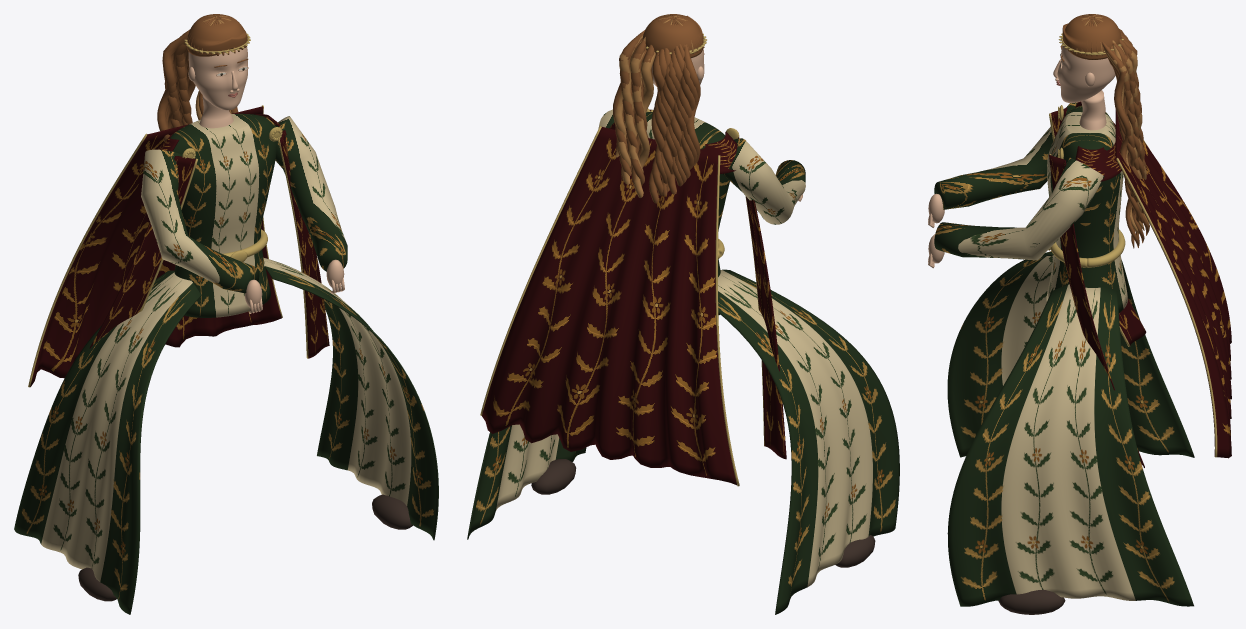
Rendered from princess-v8-mounted.glb.
The picture shows the model from 3 angles, left to right: view 1: azimuth 30°, elevation 25°; view 2: azimuth 150°, elevation 25°; view 3: azimuth 270°, elevation 25°; orthographic projection.
Visible parts, largest first — view 1: MorrisPrincess_surface, cape_surface, body_surface, head_surface, armL_surface, armR_surface; view 2: cape_surface, MorrisPrincess_surface, head_surface, armL_surface, body_surface; view 3: MorrisPrincess_surface, cape_surface, head_surface, body_surface, armR_surface, armL_surface.
Part boxes in pixels (x1,y1,x2,y2): MorrisPrincess_surface: (14, 258, 438, 614); cape_surface: (28, 105, 329, 387); body_surface: (170, 95, 282, 317); head_surface: (157, 14, 250, 141); armL_surface: (141, 149, 262, 313); armR_surface: (275, 116, 347, 293); cape_surface: (480, 109, 786, 486); MorrisPrincess_surface: (467, 269, 899, 614); head_surface: (613, 14, 706, 203); armL_surface: (723, 138, 805, 224); body_surface: (646, 108, 739, 315); MorrisPrincess_surface: (947, 251, 1194, 614); cape_surface: (1049, 101, 1231, 467); head_surface: (1053, 14, 1149, 248); body_surface: (1046, 90, 1127, 312); armR_surface: (928, 157, 1104, 268); armL_surface: (928, 102, 1077, 227).
Bounding box in the file's own units: 0.948 × 1.46 × 0.767.
Materials: 10 (2 with a texture image).
